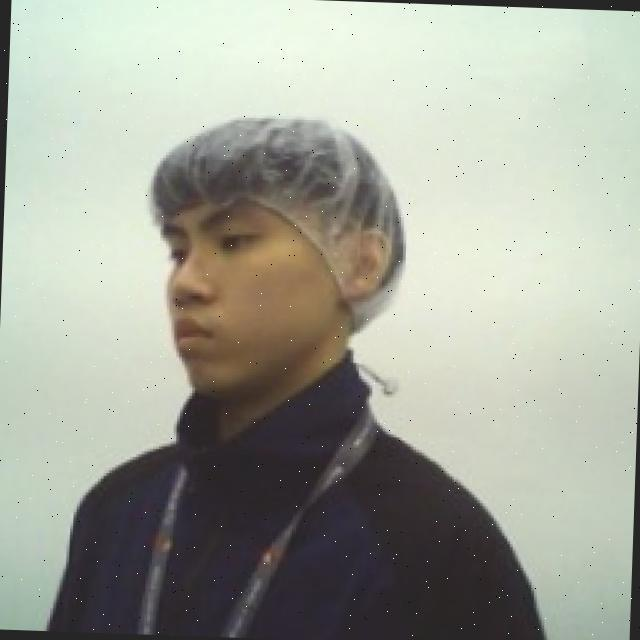gloves: (140, 99, 418, 334)
no_hairnet: (160, 215, 391, 397)
